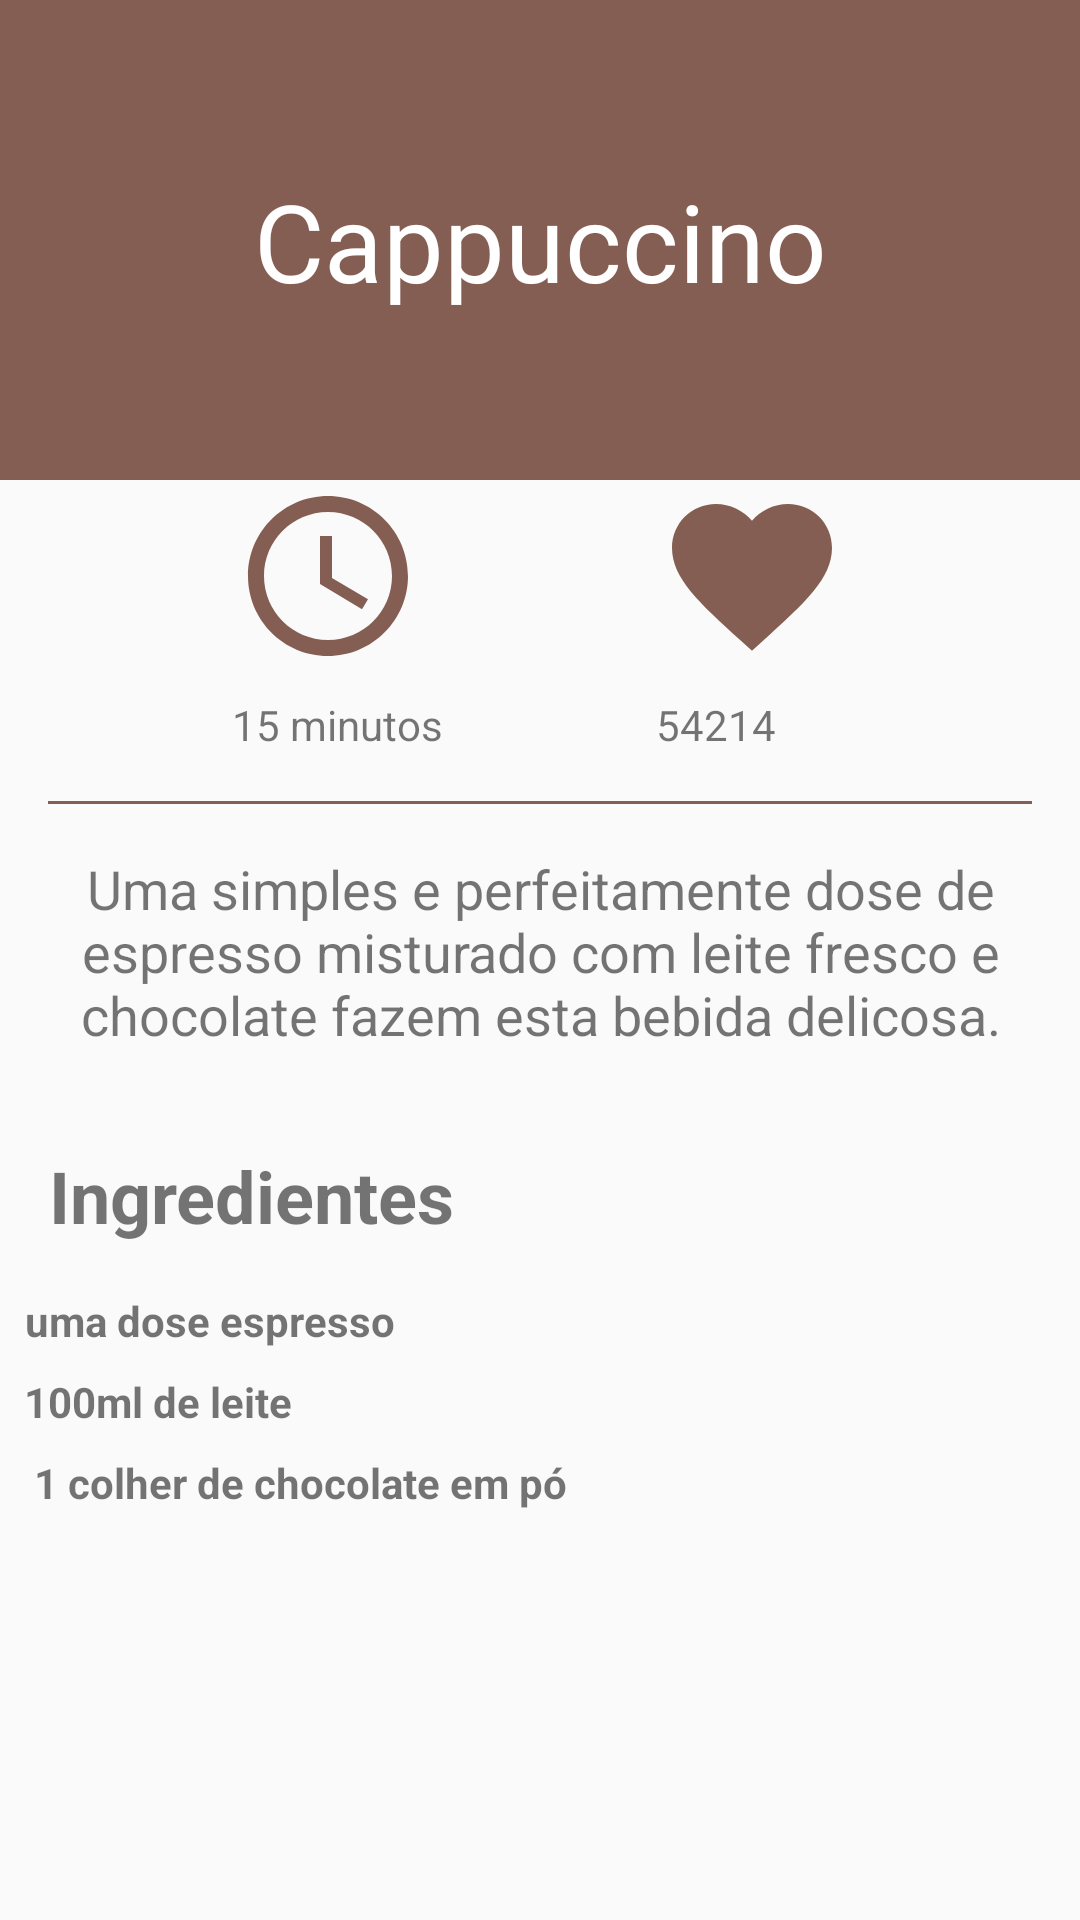

Icon click points for this 1080px×1920px phone screenshot, format point (x, y):
access time: point (328, 576)
favorite: point (752, 577)
